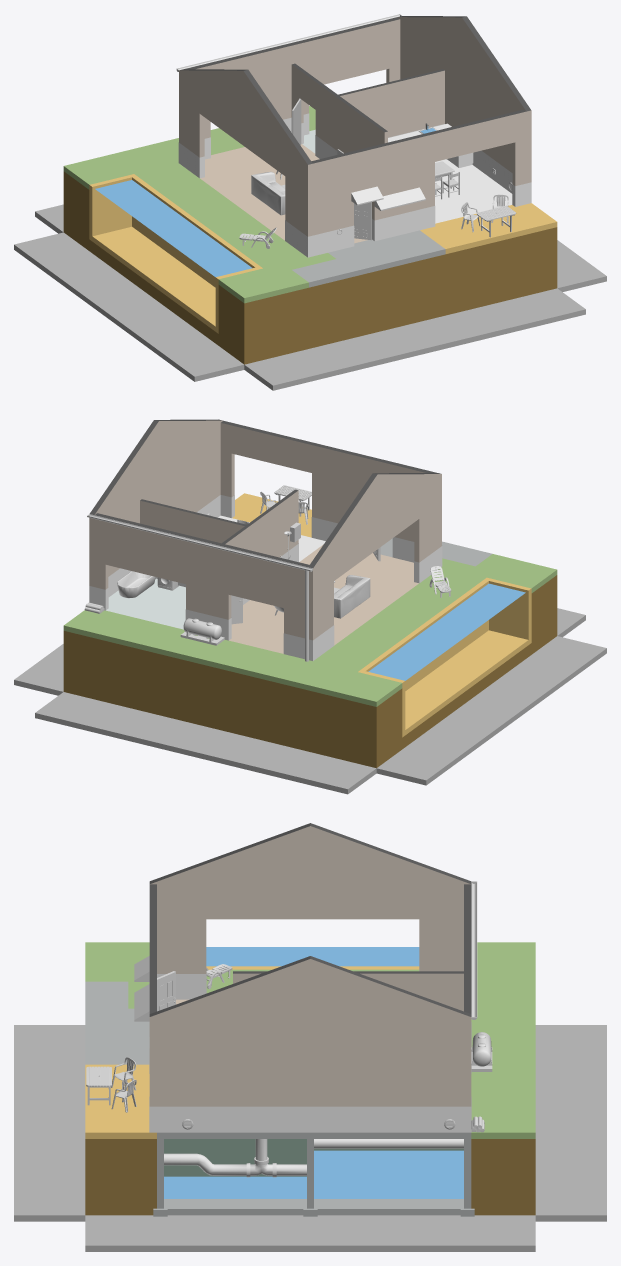
Rendered from Maquette_v1.glb.
3 renders of one model, top to bottom at view 1: azimuth 30°, elevation 25°; view 2: azimuth 150°, elevation 25°; view 3: azimuth 270°, elevation 25°, orthographic. The views are drawn at different scales.
Parts seen in each view (by area): view 1: exterieur_terrain, structure_murs, maquette_bordure, exterieur_piscine, structure_cloisons, eau_piscine, structure_salissure_exterieure, salon_sol, cuisine_sol, structure_salissure_interieure, exterieur_appentis, salon_canape (+5 smaller); view 2: exterieur_terrain, structure_murs, maquette_bordure, exterieur_piscine, salon_sol, structure_cloisons, eau_piscine, structure_salissure_exterieure, sdb_sol, structure_salissure_interieure, exterieur_gouttiere, salon_canape (+3 smaller); view 3: structure_murs, exterieur_terrain, maquette_bordure, eau_interieur, structure_salissure_exterieure, eau_piscine, exterieur_tuyaux, structure_cloisons, exterieur_table_et_chaises, exterieur_gouttiere, exterieur_appentis, exterieur_cuve_fioul (+2 smaller).
Boxes of the visible parts, x1=… form: exterieur_terrain: x1=63, y1=106, x2=557, y2=364; structure_murs: x1=179, y1=16, x2=531, y2=236; maquette_bordure: x1=14, y1=204, x2=606, y2=390; exterieur_piscine: x1=89, y1=174, x2=262, y2=333; structure_cloisons: x1=291, y1=63, x2=444, y2=153; eau_piscine: x1=95, y1=180, x2=252, y2=277; structure_salissure_exterieure: x1=178, y1=142, x2=531, y2=257; salon_sol: x1=200, y1=144, x2=367, y2=243; cuisine_sol: x1=435, y1=159, x2=512, y2=223; structure_salissure_interieure: x1=202, y1=113, x2=513, y2=239; exterieur_appentis: x1=351, y1=186, x2=425, y2=210; salon_canape: x1=251, y1=171, x2=285, y2=215; exterieur_terrain: x1=63, y1=493, x2=557, y2=768; structure_murs: x1=89, y1=419, x2=441, y2=640; maquette_bordure: x1=14, y1=608, x2=606, y2=794; exterieur_piscine: x1=358, y1=577, x2=531, y2=737; salon_sol: x1=229, y1=544, x2=418, y2=653; structure_cloisons: x1=140, y1=489, x2=298, y2=557; eau_piscine: x1=368, y1=583, x2=525, y2=680; structure_salissure_exterieure: x1=89, y1=495, x2=442, y2=660; sdb_sol: x1=106, y1=578, x2=185, y2=629; structure_salissure_interieure: x1=107, y1=495, x2=416, y2=638; exterieur_gouttiere: x1=87, y1=514, x2=312, y2=661; salon_canape: x1=334, y1=575, x2=370, y2=618; structure_murs: x1=149, y1=823, x2=471, y2=1106; exterieur_terrain: x1=85, y1=942, x2=535, y2=1216; maquette_bordure: x1=14, y1=1025, x2=606, y2=1251; eau_interieur: x1=164, y1=1150, x2=463, y2=1198; structure_salissure_exterieure: x1=149, y1=971, x2=471, y2=1132; eau_piscine: x1=206, y1=947, x2=419, y2=966; exterieur_tuyaux: x1=164, y1=1139, x2=463, y2=1177; structure_cloisons: x1=233, y1=971, x2=463, y2=1011; exterieur_table_et_chaises: x1=86, y1=1057, x2=136, y2=1112; exterieur_gouttiere: x1=471, y1=881, x2=477, y2=1019; exterieur_appentis: x1=134, y1=956, x2=149, y2=1021; exterieur_cuve_fioul: x1=471, y1=1032, x2=492, y2=1071.
Bounding box in the file's own units: 16.6 × 8.12 × 16.6.
